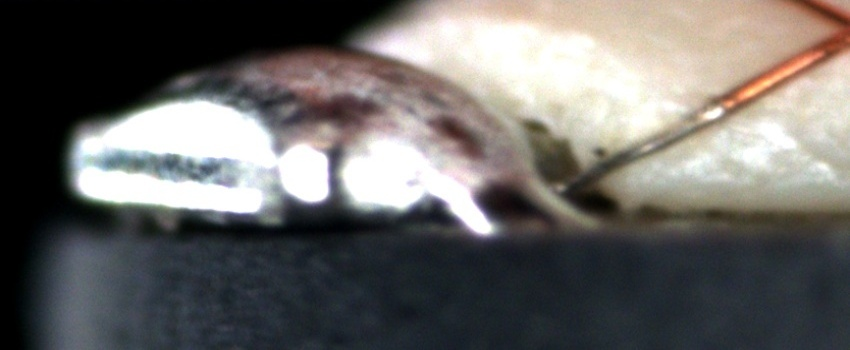CL: (804, 2, 850, 66)
TS: (554, 99, 725, 195)
TTCW: (550, 78, 757, 196)
